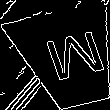M_S: (33, 28, 105, 89)
